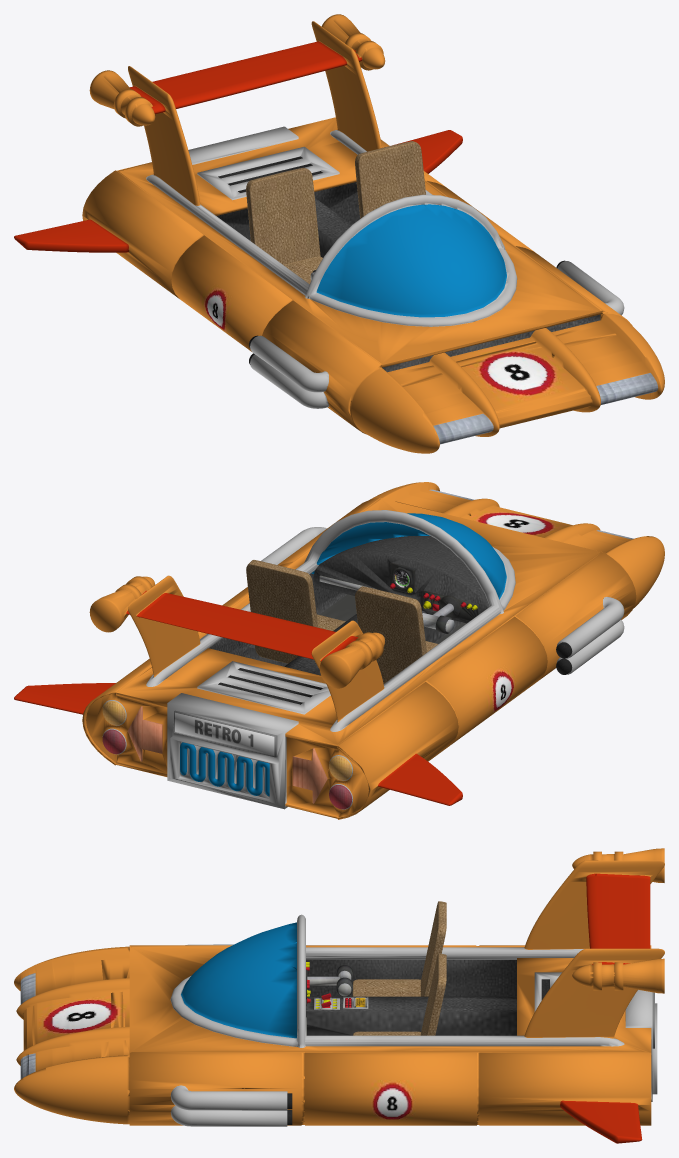
Rendered from car.FBX.
3 views of the same model, one above another, from view 1: azimuth 30°, elevation 25°; view 2: azimuth 150°, elevation 25°; view 3: azimuth 270°, elevation 25° (orthographic).
Visible parts, largest first — view 1: Object_1, Object_2, Object_3; view 2: Object_1, Object_2, Object_3; view 3: Object_1, Object_2, Object_3.
Boxes of the visible parts, x1,y1,x2,y2 form: Object_1: [14, 14, 664, 453]; Object_2: [246, 167, 322, 284]; Object_3: [355, 141, 425, 218]; Object_1: [14, 482, 664, 819]; Object_2: [355, 586, 438, 683]; Object_3: [246, 560, 345, 663]; Object_1: [14, 848, 664, 1143]; Object_2: [352, 901, 446, 996]; Object_3: [353, 953, 446, 1035].
Size of the model in its own units: 400 by 150 by 523.
13 materials, 7 textured.
